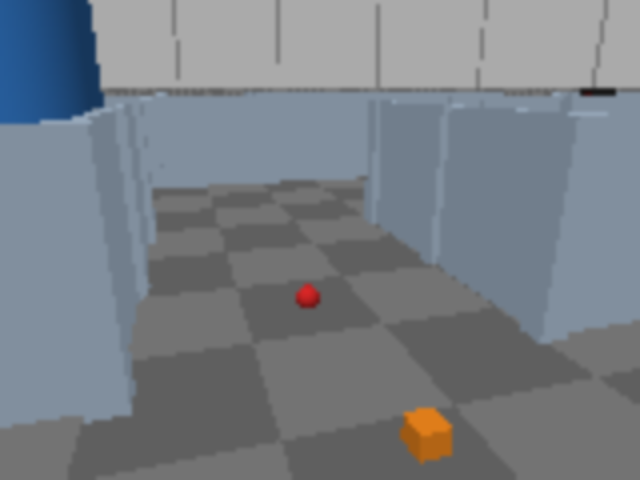puck: (401, 406, 454, 464), (296, 281, 321, 313)
